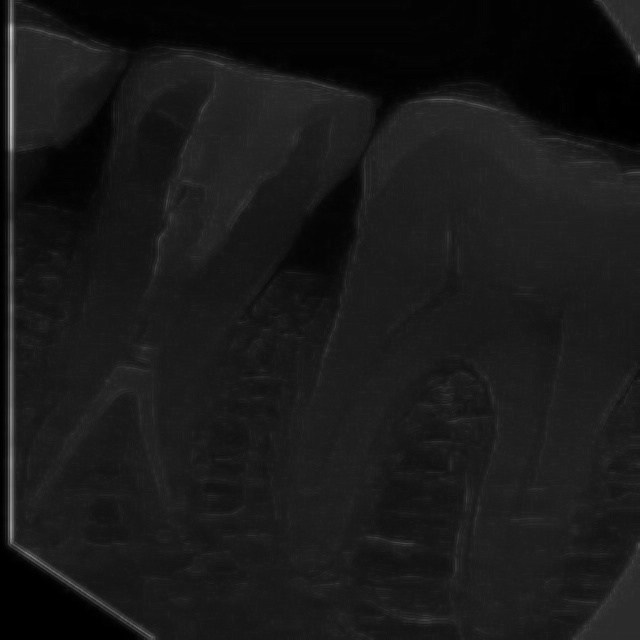Class 1- complete endodontic treatment: (5, 19, 338, 598)
cavity: (256, 55, 640, 634)
